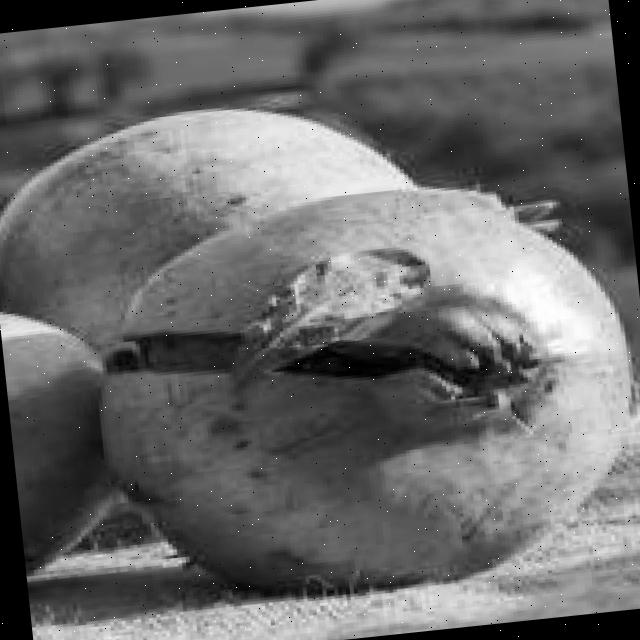overripe: (75, 158, 640, 613)
